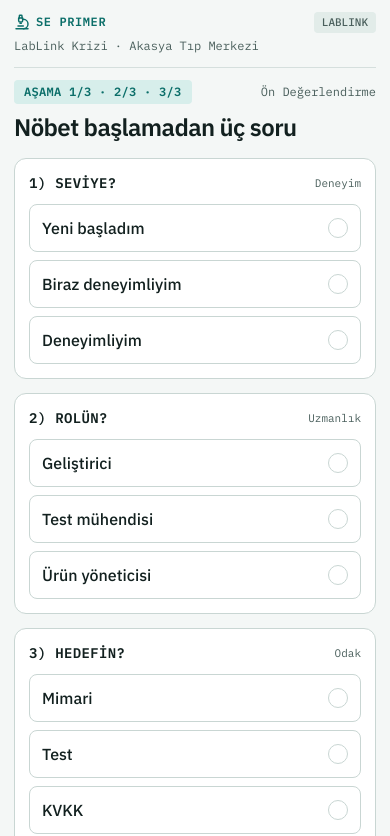
KÖ-2: Deneyimliyim › 60 sn geri sayım var, ipucu yok; süre dolunca B uygulanır
The image size is (390, 836).
Click the radio button with test id "deneyimli".
click(92, 340)  # box [29,316,361,364]
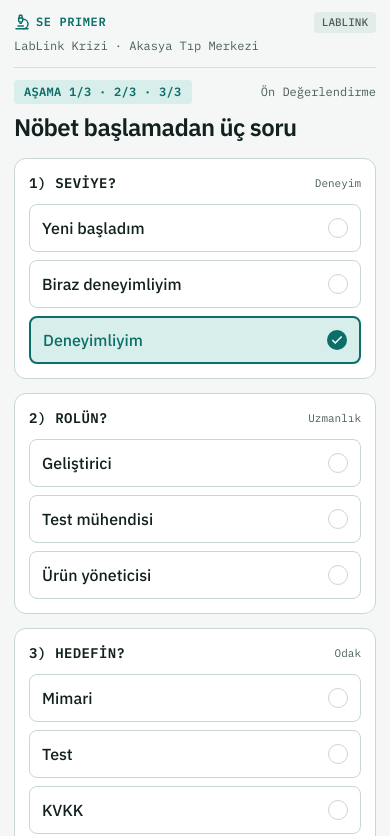
Click the radio button labelled "Geliştirici".
click(77, 463)  # box [29,439,361,487]
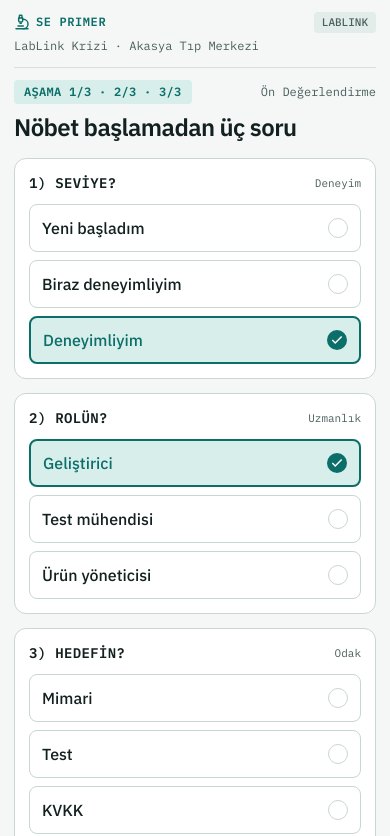
Click the radio button labelled "Mimari".
click(67, 698)  # box [29,674,361,722]
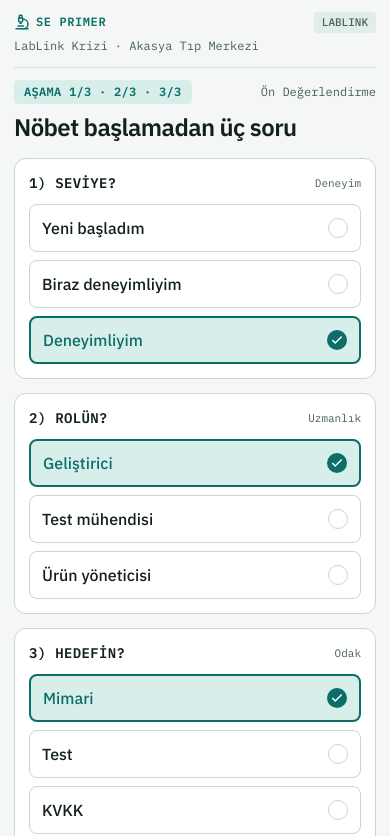
Scroll
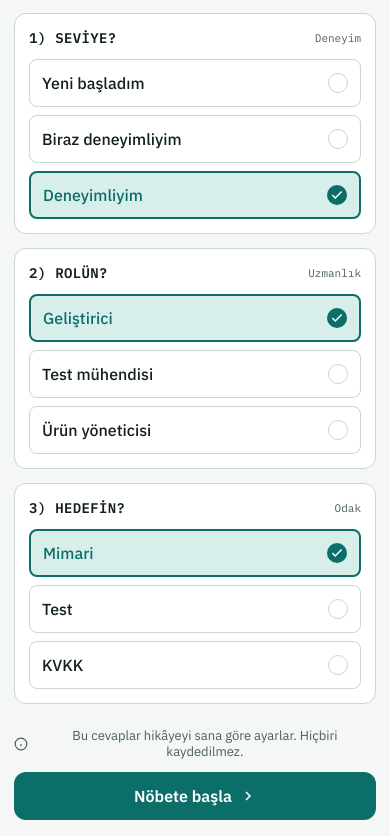
Click the button with test id "start-btn".
click(195, 796)  # box [14,772,376,820]
(page scrolled)
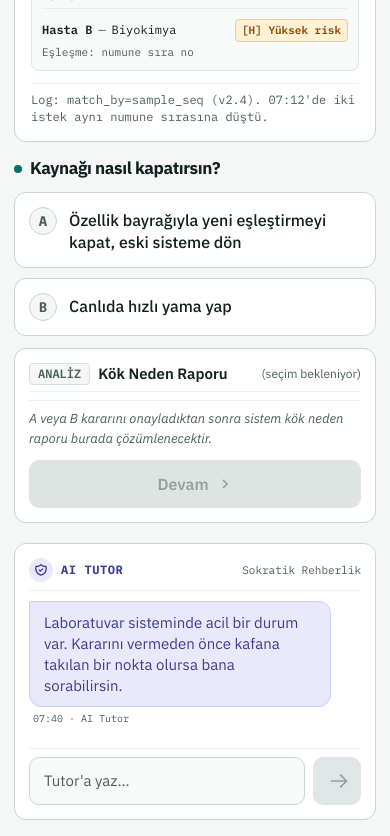
Wait "61000"
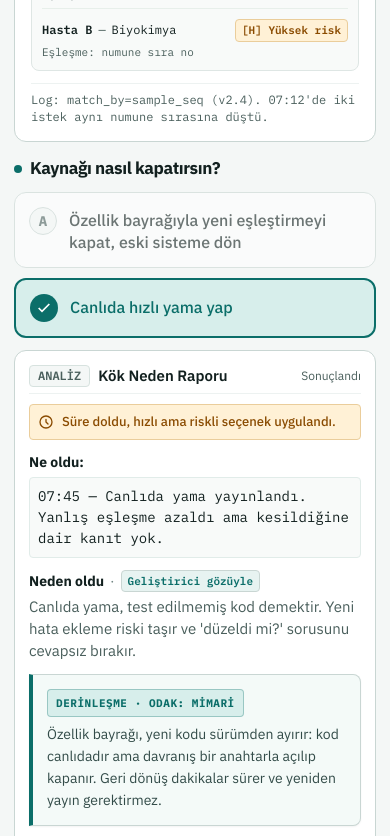
Now the element with test id "result-panel" is shown, box [14,350,376,835]
Now the element with test id "timeout-note" is shown, box [29,404,361,440]
Now the text with test id "timeout-note" shows "Süre doldu", box [62,413,336,430]
